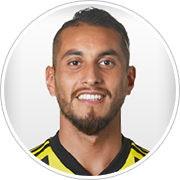smile: (71, 85, 110, 108)
